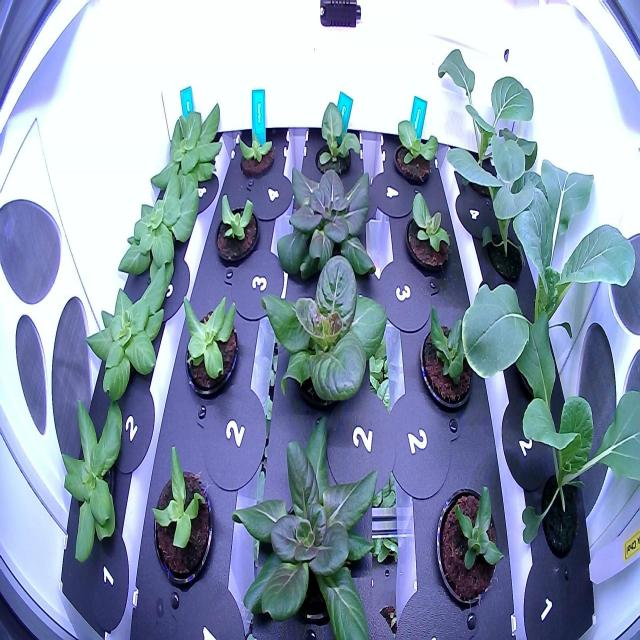young: (224, 403, 398, 640), (256, 252, 399, 422), (270, 153, 380, 291), (43, 392, 128, 568), (81, 258, 171, 406), (112, 168, 202, 302), (431, 467, 510, 615), (148, 437, 217, 593), (143, 94, 224, 208), (414, 295, 480, 420), (175, 286, 241, 409), (400, 179, 458, 284), (310, 90, 368, 187), (386, 106, 446, 190), (210, 188, 260, 278), (233, 124, 280, 185)
